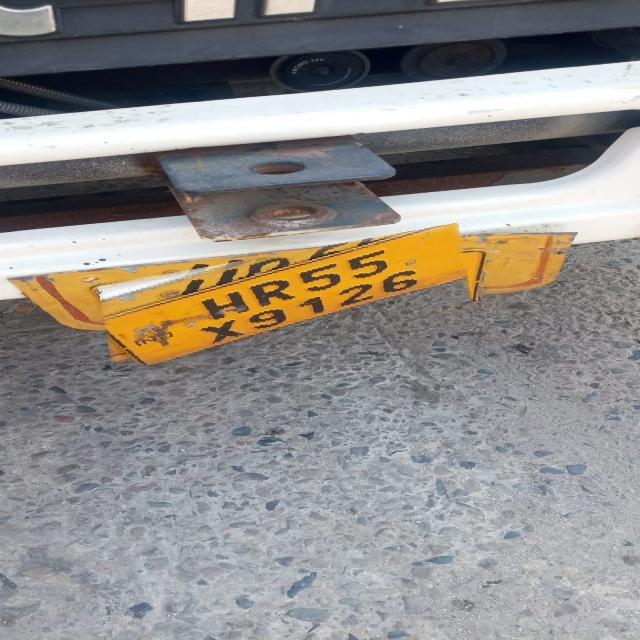License-plate: (104, 222, 466, 364)
